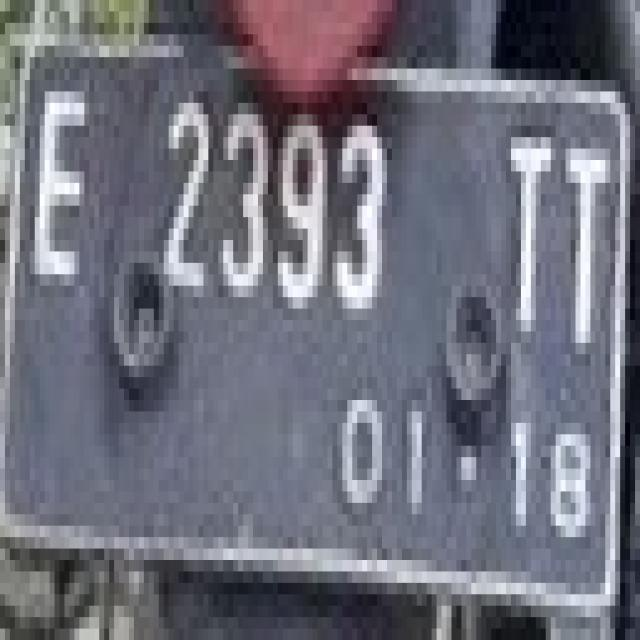plate: (15, 12, 615, 594)
